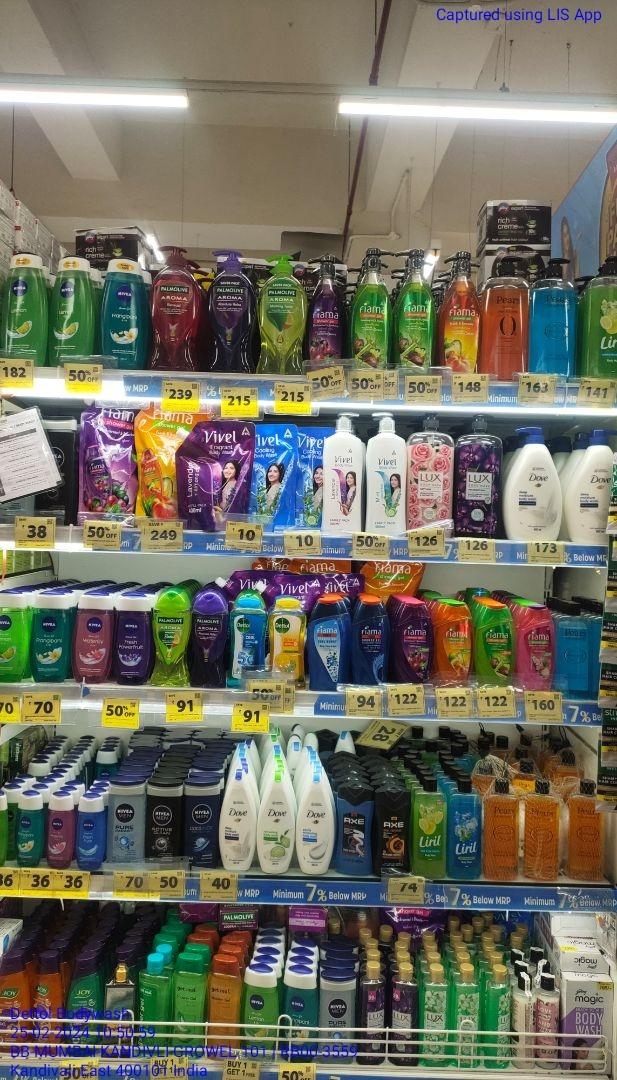Dettol_Bodywash_Cool: (230, 598, 268, 678)
Dettol_Bodywash_Refresh: (271, 601, 307, 688)
Dove_Deep_Moisture_Body_Wash_250ML: (219, 772, 256, 871)
Dove_Gentle_Exfoliating_Body_Wash_250ML: (298, 775, 335, 875)
Dove_Refreshing_Body_Wash_250ML: (259, 774, 296, 874)
Fiama_Shower_Gel_Lemongrass_and_Jojoba_250ML: (477, 604, 515, 689)
Fiama_Shower_Gel_Patchouli_and_Macadamia_250ML: (518, 604, 554, 690)
Fiama_Shower_Gel_Peach_and_Avocado_250ML: (438, 602, 471, 688)
Get_Real_Shower_Gel_Moisturising_Glycerin_300ML: (208, 956, 238, 1058)
Liril_Cooling_Mint_Body_Wash_250ML: (450, 779, 483, 879)
Liril_Lime_and_Tea_Tree_Oil_Body_Wash_250ML: (414, 777, 448, 880)
Lux_Black_Orchid_Scent_and_Juniper_Oil_Body_Wash_245ML: (392, 962, 420, 1065), (360, 965, 387, 1065)
Lux_Body_Wash_Skin_Detox_Freesia_Scent_and_Alove_Vera_245ML: (421, 967, 453, 1067), (456, 966, 483, 1068), (492, 967, 513, 1068)
Nivea_Shower_Gel_Frangipani_and_Oil_250ML: (105, 258, 151, 369), (33, 598, 67, 683)
Nivea_Shower_Gel_Fresh_Powerfruit_250ML: (117, 598, 149, 685)
Nivea_Shower_Gel_Lemon_and_Oil_250ML: (53, 255, 100, 364), (2, 251, 45, 361)
Nivea_Shower_Gel_Waterlily_and_Oil_250ML: (78, 594, 112, 683)
Palmolive_Aroma_Morning_Tonic_Shower_Gel_250ML: (151, 592, 189, 688)
Palmolive_Aroma_Relax_250ML: (193, 593, 226, 688)
Pears_Pure_Glycerin_and_Mint_Extracts_Body_Wash_250ML: (557, 604, 590, 692)
